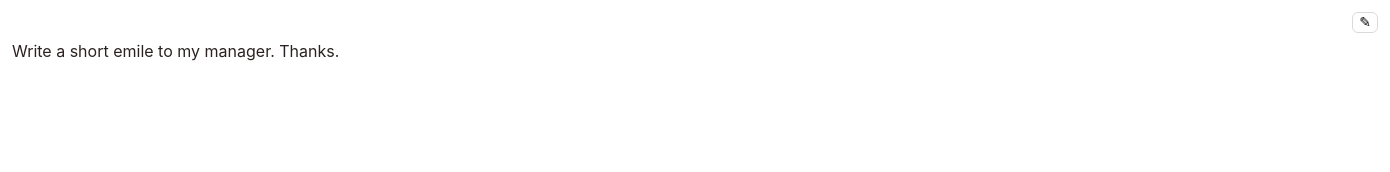
Test case: TranscriptView › word fixing › Enter replaces only that word and ends editing
Double-click the button with aria-label "Edit word emile".
double_click(133, 51)  # box [113,41,154,61]
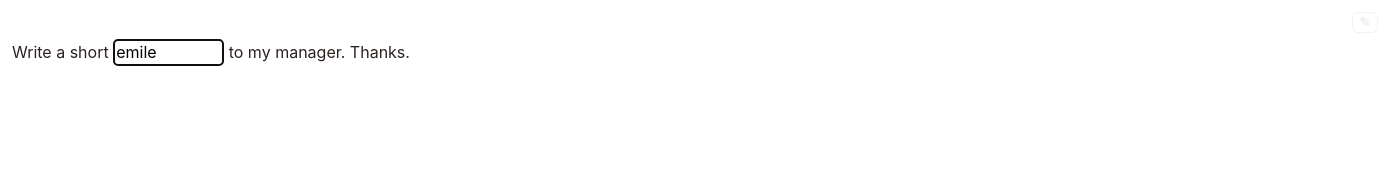
Clear the field named "Replace word emile" at (169, 53), box [113,39,224,66]
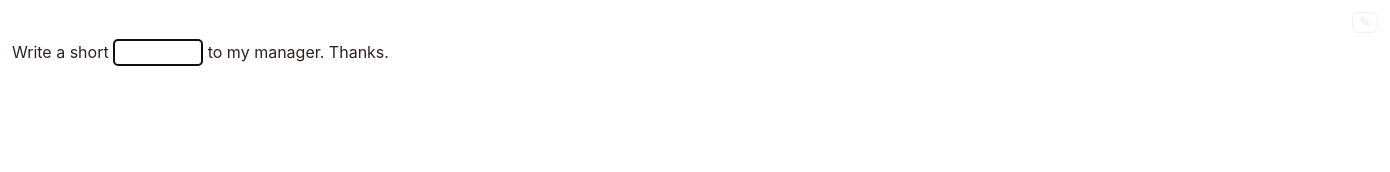
Type "email" into the field named "Replace word emile".
click(158, 53); type("email")  # box [113,39,203,66]
Then press Enter
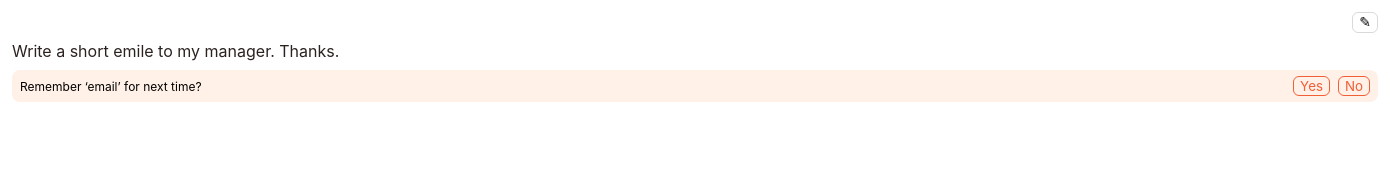
Expected: the field is gone
